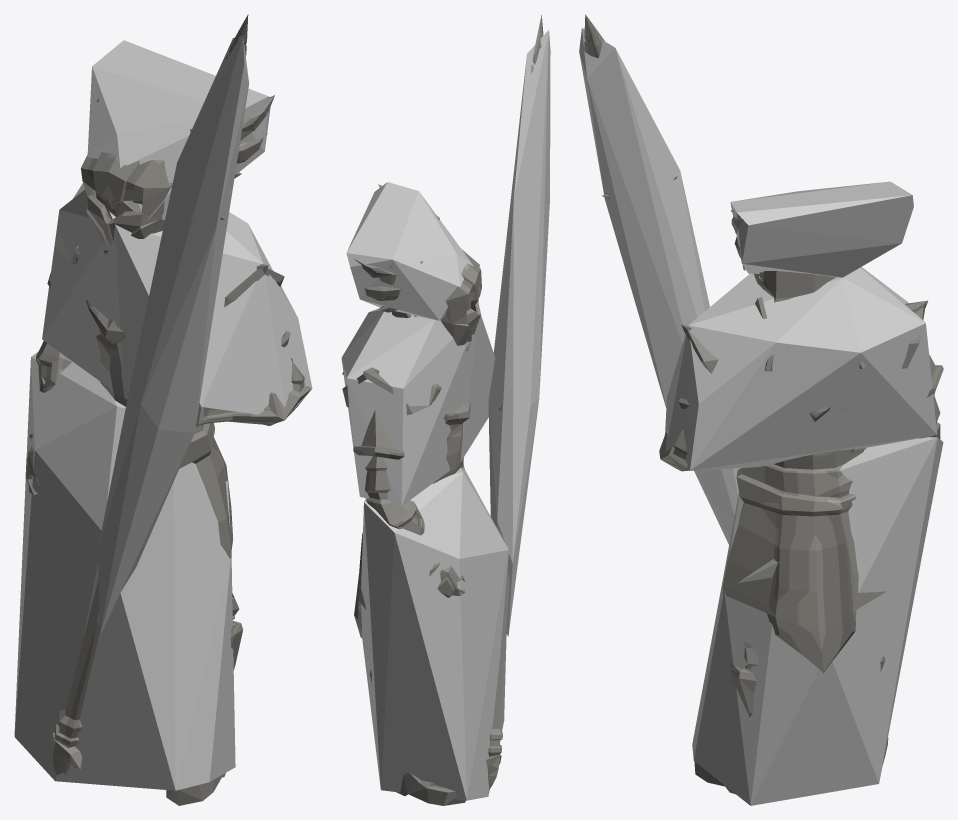
Rendered from SM_Prop_Statue_03.fbx.
3 renders of one model, left to right at view 1: azimuth 30°, elevation 25°; view 2: azimuth 150°, elevation 25°; view 3: azimuth 270°, elevation 25°, orthographic. The views are drawn at different scales.
Parts seen in each view (by area): view 1: SM_Prop_Statue_03_ConvexHulls, SM_Prop_Statue_03; view 2: SM_Prop_Statue_03_ConvexHulls, SM_Prop_Statue_03; view 3: SM_Prop_Statue_03_ConvexHulls, SM_Prop_Statue_03.
Part boxes in pixels (bbox=[...]): SM_Prop_Statue_03_ConvexHulls: bbox=[14, 36, 312, 790]; SM_Prop_Statue_03: bbox=[19, 14, 311, 805]; SM_Prop_Statue_03_ConvexHulls: bbox=[341, 30, 550, 800]; SM_Prop_Statue_03: bbox=[342, 15, 543, 805]; SM_Prop_Statue_03_ConvexHulls: bbox=[579, 28, 943, 805]; SM_Prop_Statue_03: bbox=[584, 14, 943, 794].
Size of the model in its own units: 58.2 by 105 by 242.
2 materials, 1 textured.
